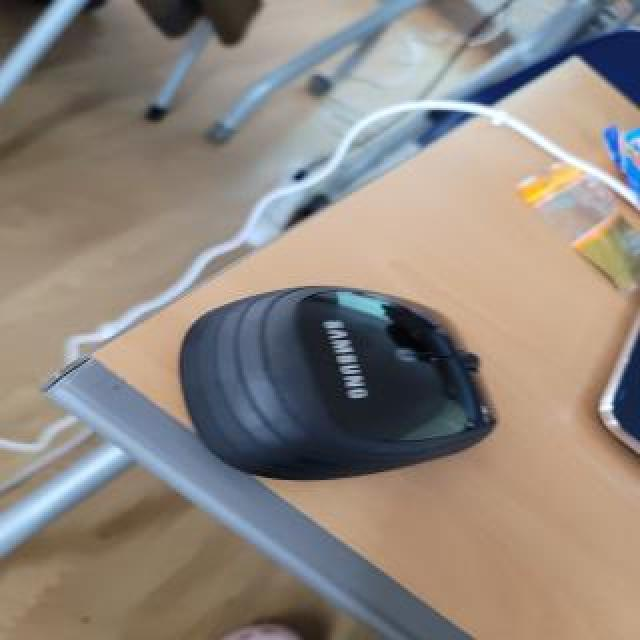mouse: (194, 280, 489, 504)
